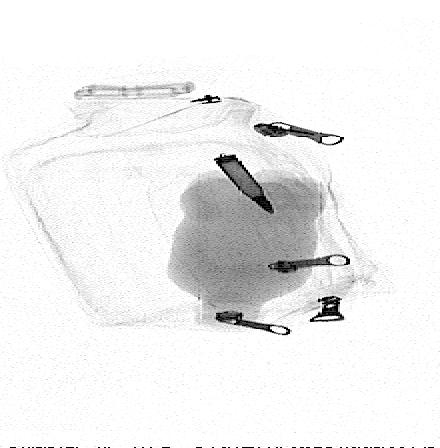Bullet: (213, 155, 275, 215)
